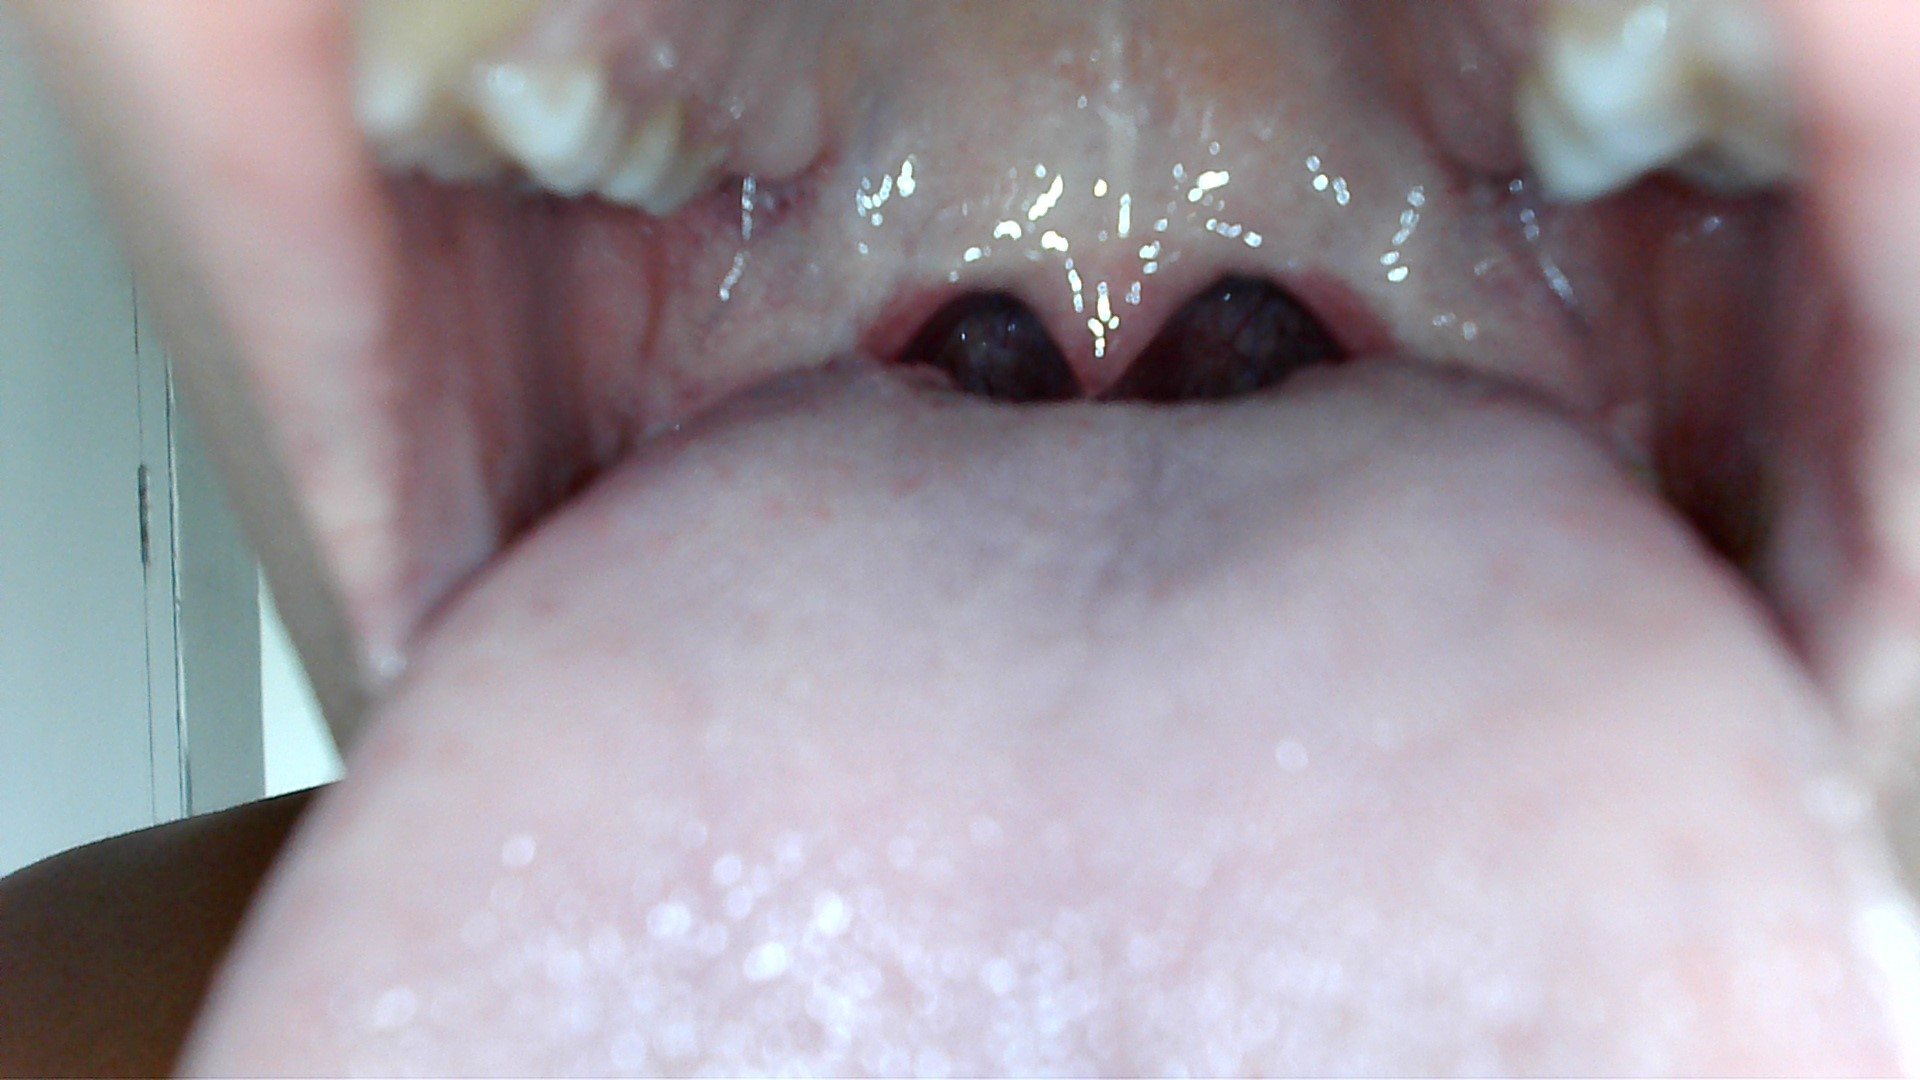throat: (1302, 179, 1494, 368), (754, 216, 945, 368)
